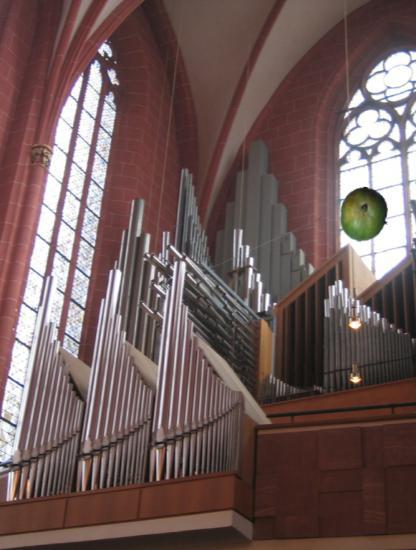Mango: (337, 187, 393, 243)
